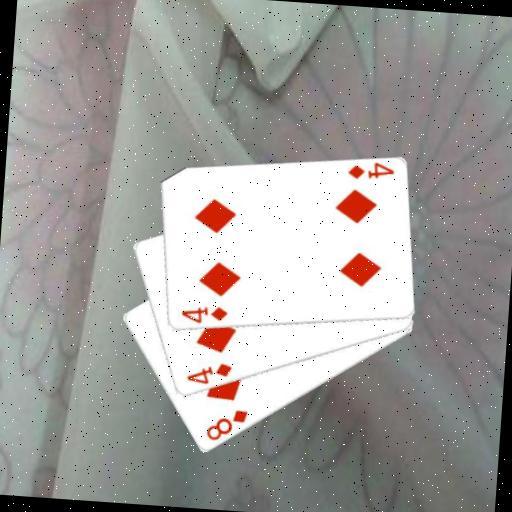4D: (183, 358, 234, 388), (344, 158, 396, 184), (178, 302, 230, 327)
8D: (202, 405, 250, 446)
